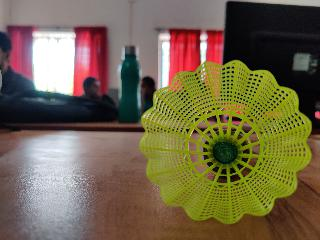shuttlecock: (140, 60, 310, 224)
